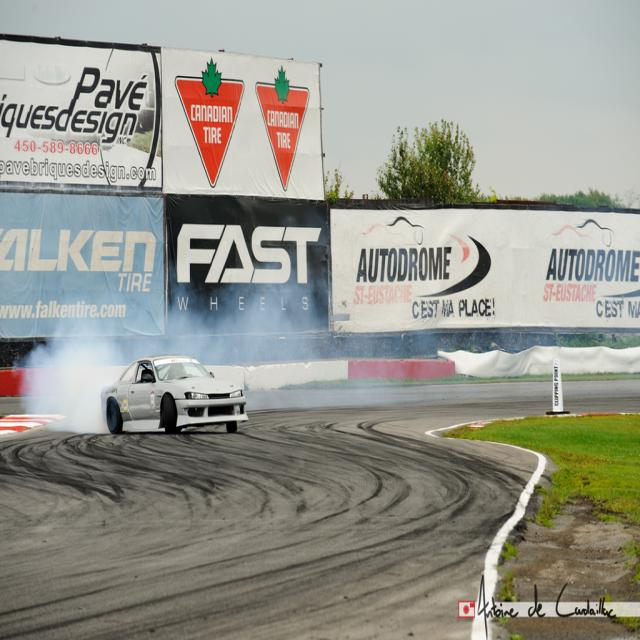car: (100, 356, 250, 435)
